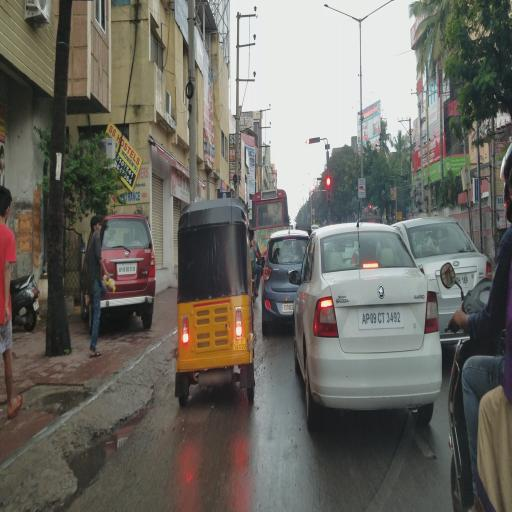street_light_0: (316, 0, 360, 20)
